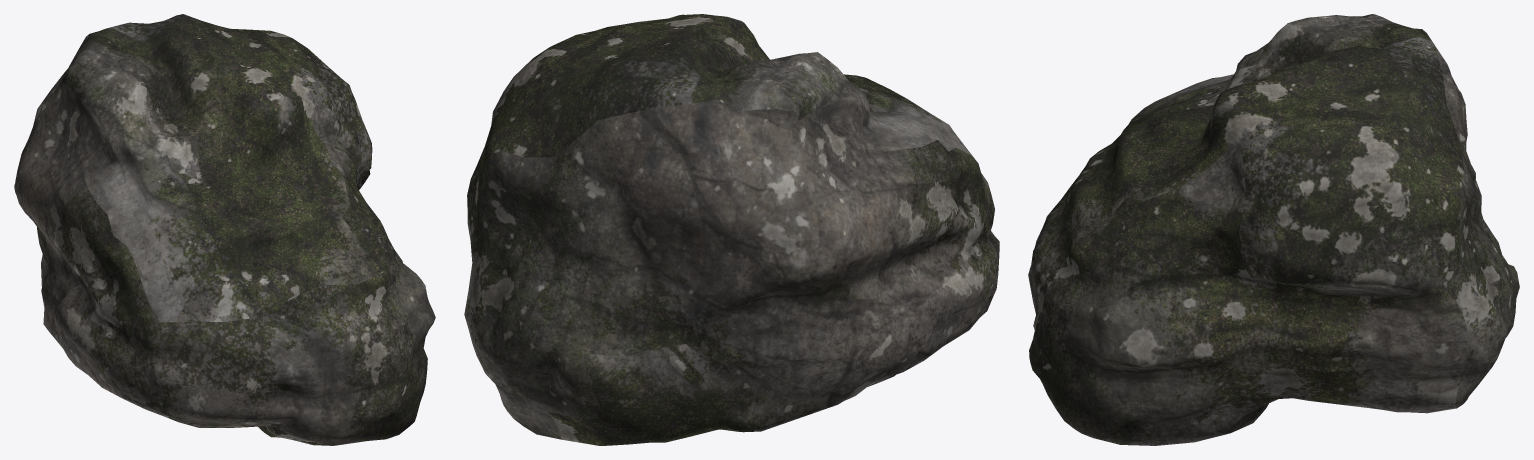
Rendered from SM_RockBoulder_01.fbx.
3 renders of one model, left to right at view 1: azimuth 30°, elevation 25°; view 2: azimuth 150°, elevation 25°; view 3: azimuth 270°, elevation 25°, orthographic. The views are drawn at different scales.
Visible parts, largest first — view 1: SM_RockBoulder_01; view 2: SM_RockBoulder_01; view 3: SM_RockBoulder_01.
Part boxes in pixels (x1=…): SM_RockBoulder_01: x1=14, y1=14, x2=435, y2=445; SM_RockBoulder_01: x1=464, y1=14, x2=999, y2=445; SM_RockBoulder_01: x1=1028, y1=14, x2=1519, y2=445.
Size of the model in its own units: 222 by 272 by 213.
Materials: 1 (1 with a texture image).
